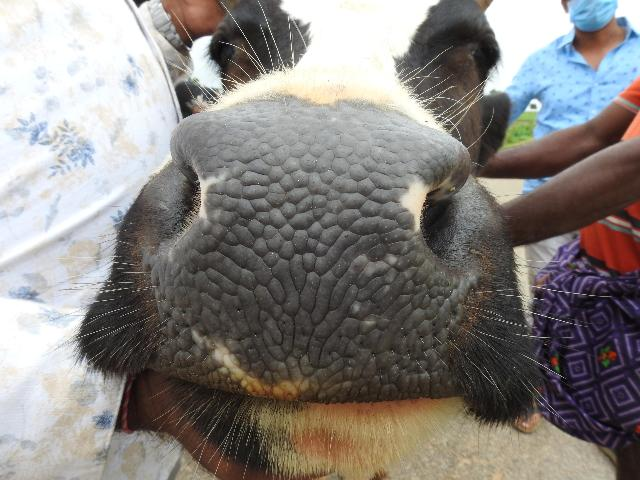Muzzle: (190, 116, 438, 396)
